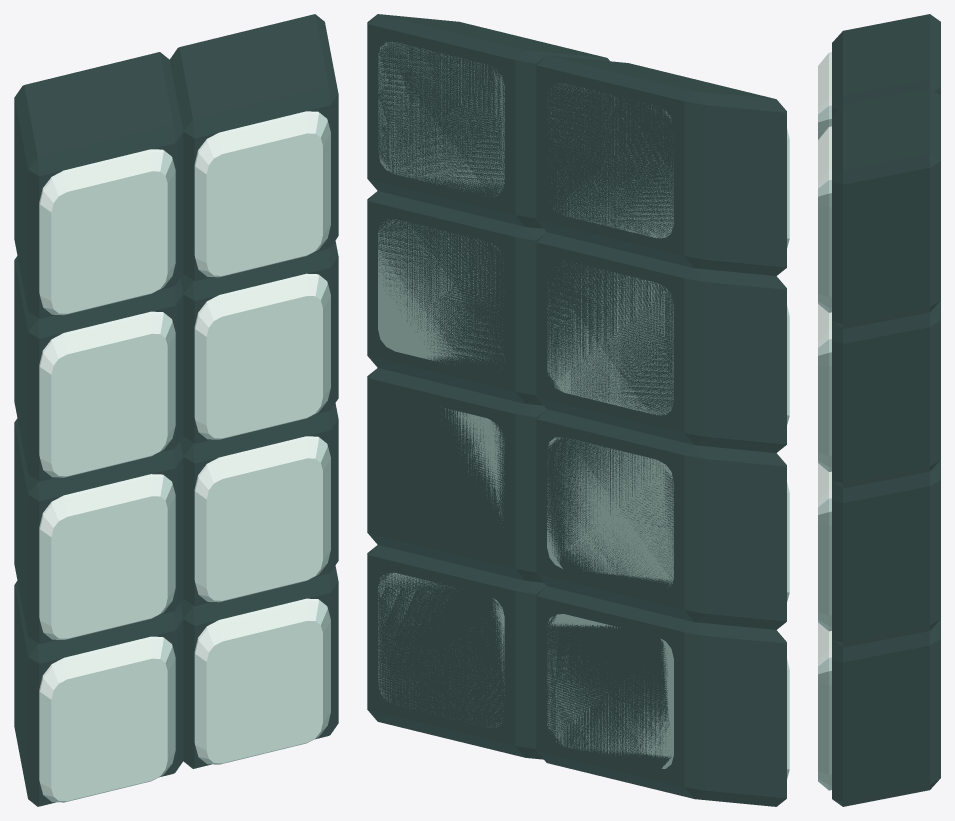
File: Terrain_Block2x4.gltf
The picture shows the model from 3 angles, left to right: view 1: azimuth 30°, elevation 25°; view 2: azimuth 150°, elevation 25°; view 3: azimuth 270°, elevation 25°; orthographic projection. The views are drawn at different scales.
Parts seen in each view (by area): view 1: Terrain_Block2x4_baked; view 2: Terrain_Block2x4_baked; view 3: Terrain_Block2x4_baked.
Part boxes in pixels (bbox=[...]): Terrain_Block2x4_baked: bbox=[14, 14, 338, 806]; Terrain_Block2x4_baked: bbox=[367, 14, 789, 806]; Terrain_Block2x4_baked: bbox=[818, 14, 940, 806].
Bounding box in the file's own units: 2.2 × 4.2 × 0.7.
